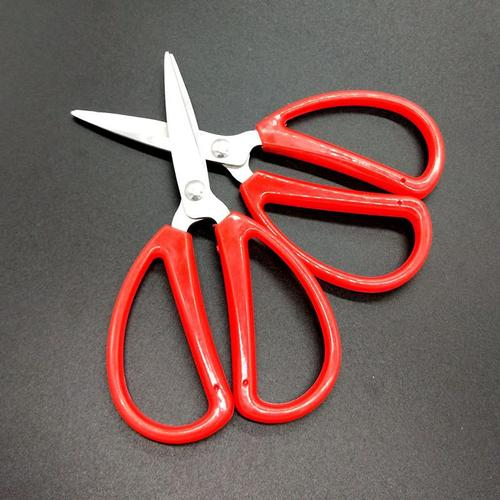scissor: (105, 48, 343, 446), (71, 88, 445, 300)
